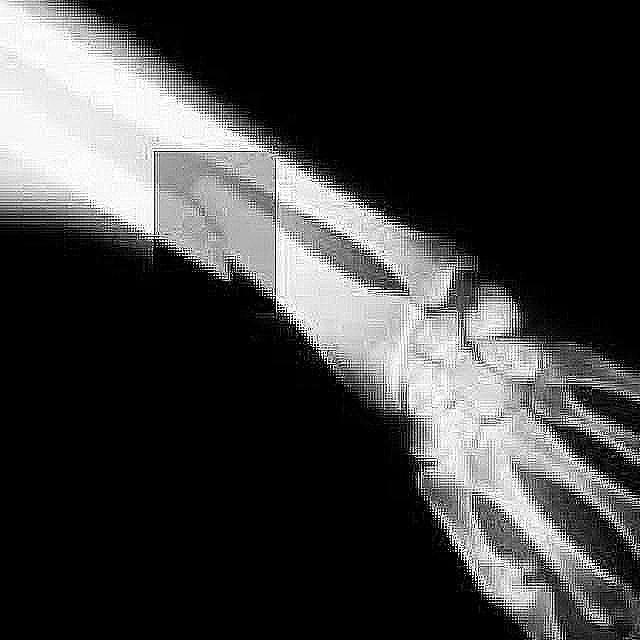bone: (154, 171, 270, 301)
